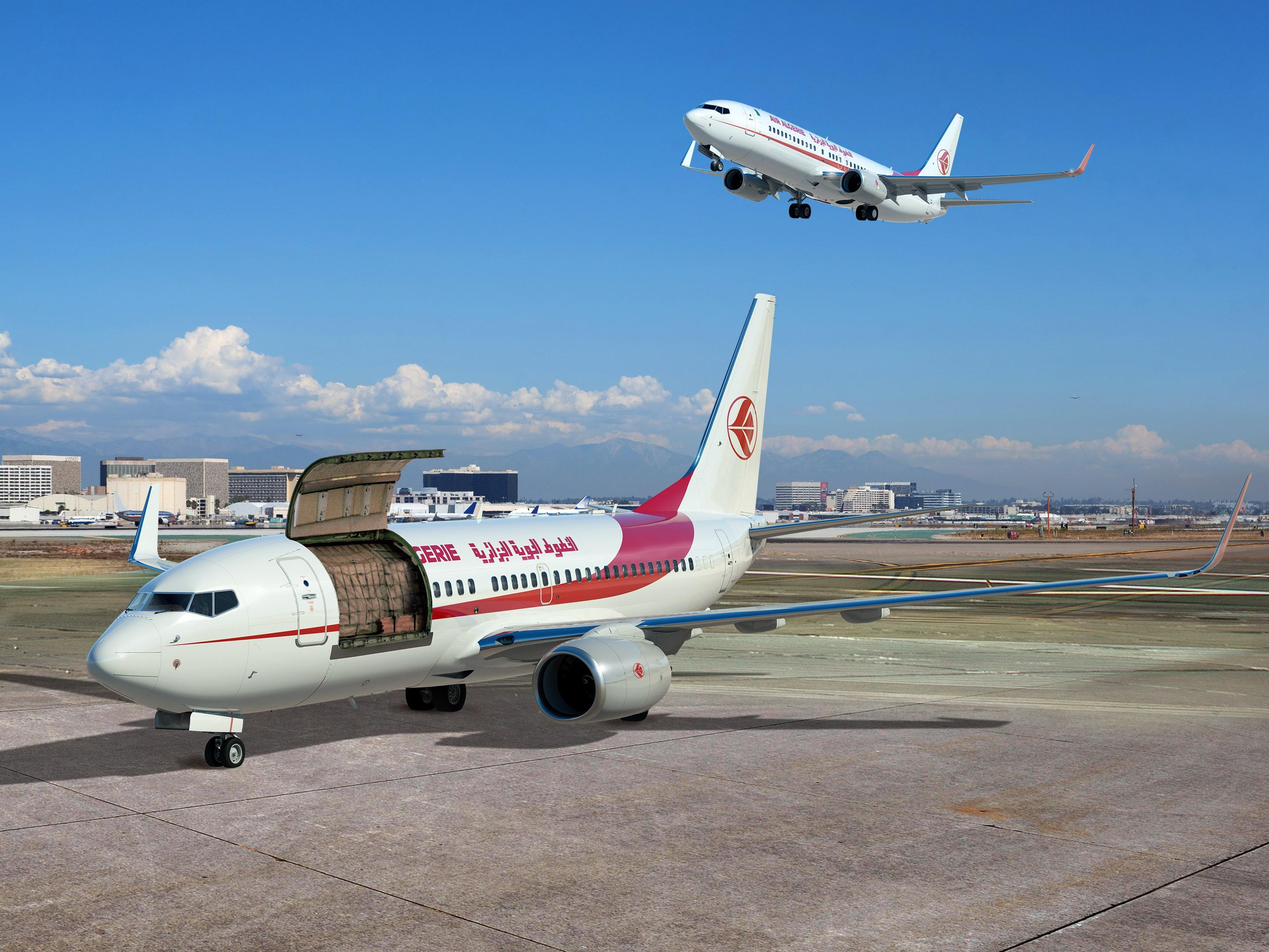aircraft: (60, 294, 1146, 762), (679, 99, 1095, 224)
